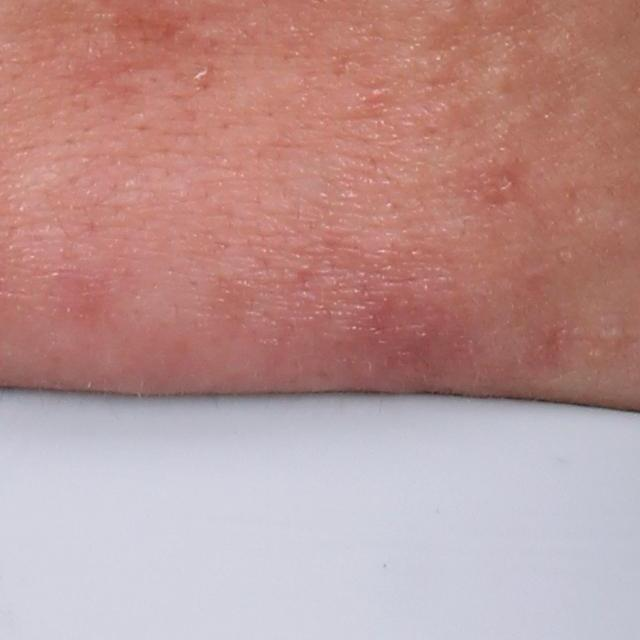hypertrophic_scar: (389, 35, 460, 94), (482, 57, 528, 105)
